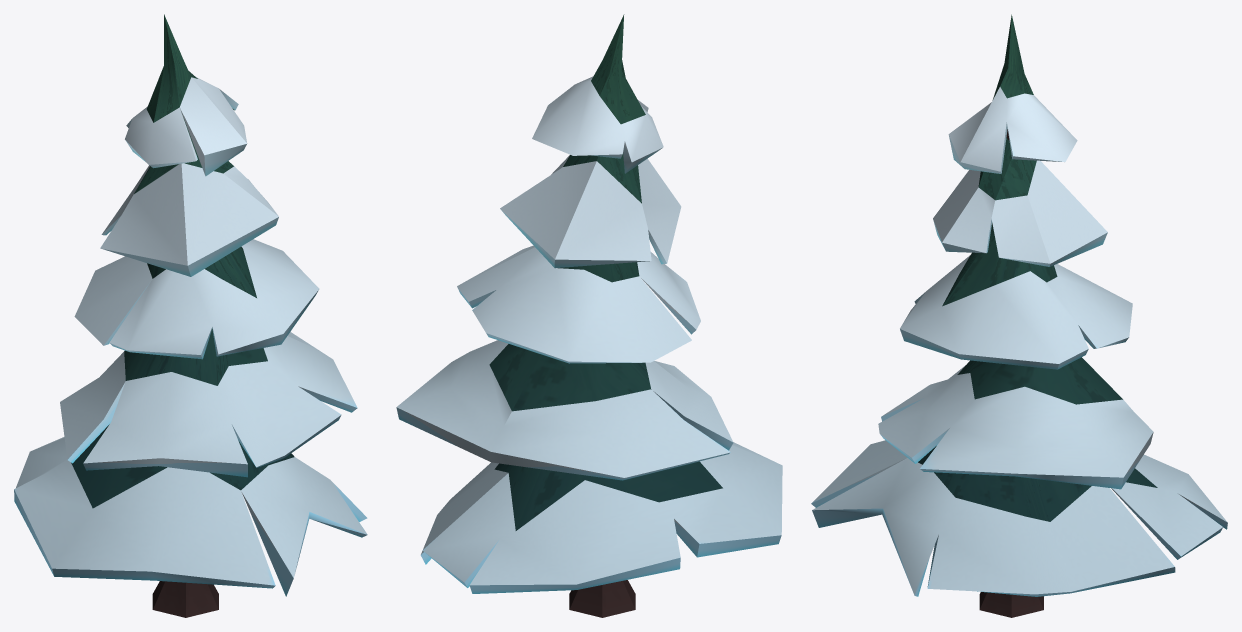
File: SnowTree3.fbx
The picture shows the model from 3 angles, left to right: view 1: azimuth 30°, elevation 25°; view 2: azimuth 150°, elevation 25°; view 3: azimuth 270°, elevation 25°; orthographic projection. The views are drawn at different scales.
Visible parts, largest first — view 1: SnowTree3; view 2: SnowTree3; view 3: SnowTree3.
Boxes of the visible parts, bbox=[...] form: SnowTree3: bbox=[14, 14, 367, 617]; SnowTree3: bbox=[396, 14, 782, 617]; SnowTree3: bbox=[811, 14, 1227, 617].
Bounding box in the file's own units: 653 × 1211 × 792.
